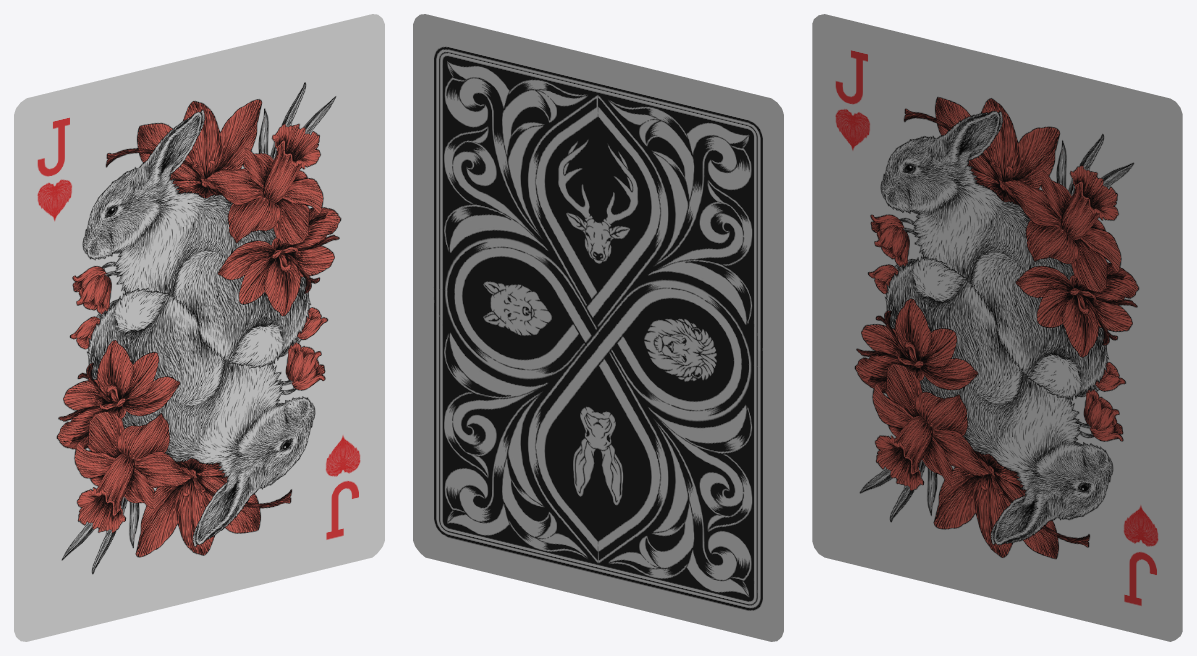
The picture shows the model from 3 angles, left to right: view 1: azimuth 30°, elevation 25°; view 2: azimuth 150°, elevation 25°; view 3: azimuth 330°, elevation 25°; orthographic projection.
Parts seen in each view (by area): view 1: Node; view 2: Node; view 3: Node.
Boxes of the visible parts, x1,y1,x2,y2 form: Node: (14, 14, 384, 641); Node: (413, 14, 783, 641); Node: (812, 14, 1182, 641).
Bounding box in the file's own units: 1.5 × 2.1 × 7.08e-05.
Materials: 1 (1 with a texture image).
